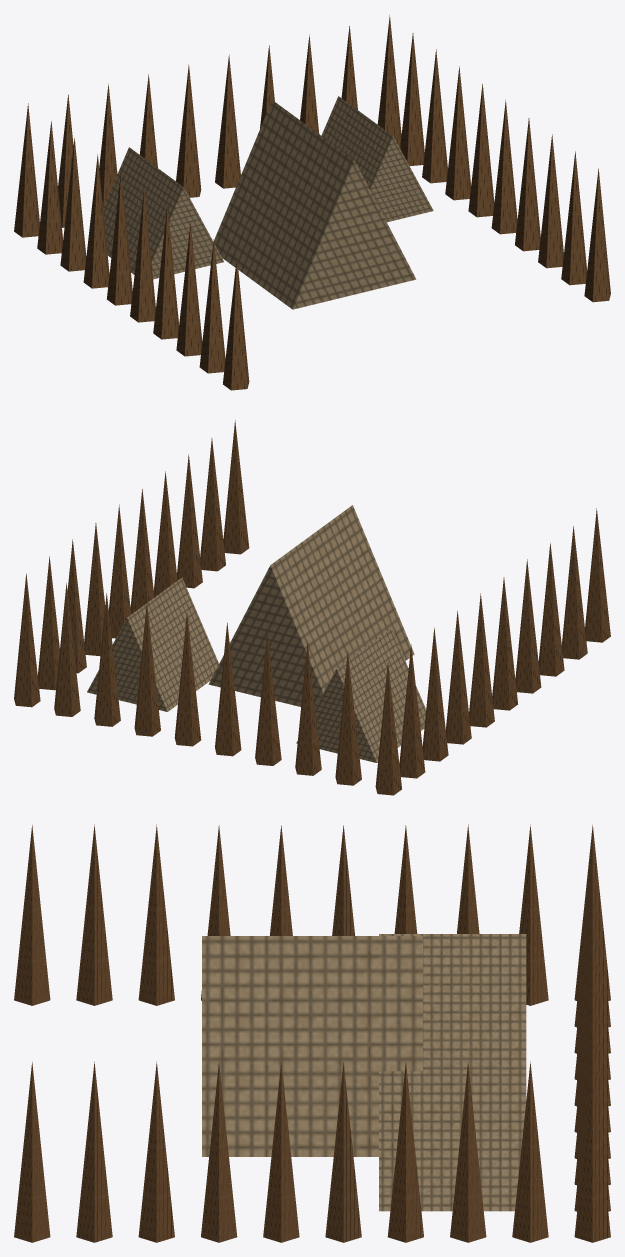
The model's file is military-FORT-1-lod0.glb.
3 renders of one model, top to bottom at view 1: azimuth 30°, elevation 25°; view 2: azimuth 150°, elevation 25°; view 3: azimuth 270°, elevation 25°, orthographic. The views are drawn at different scales.
Bounding box in the file's own units: 0.807 × 0.27 × 0.8095.
Materials: 1 (1 with a texture image).
